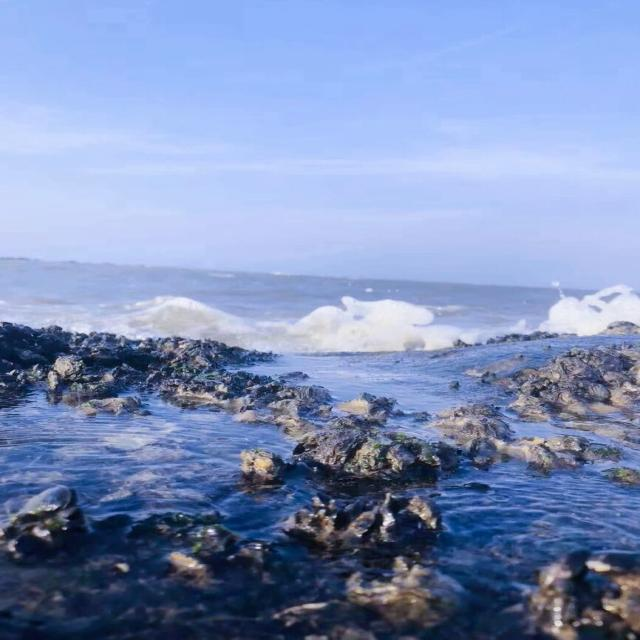reef: (390, 335, 623, 482), (0, 313, 259, 418)
